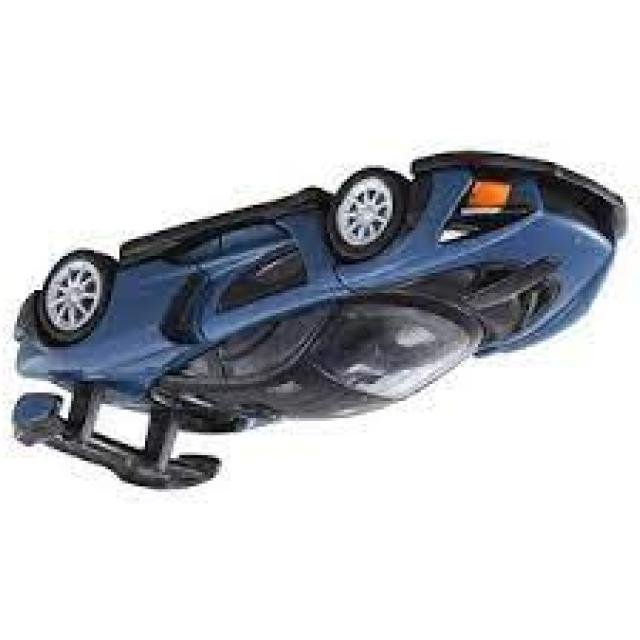Car: (11, 154, 632, 495)
